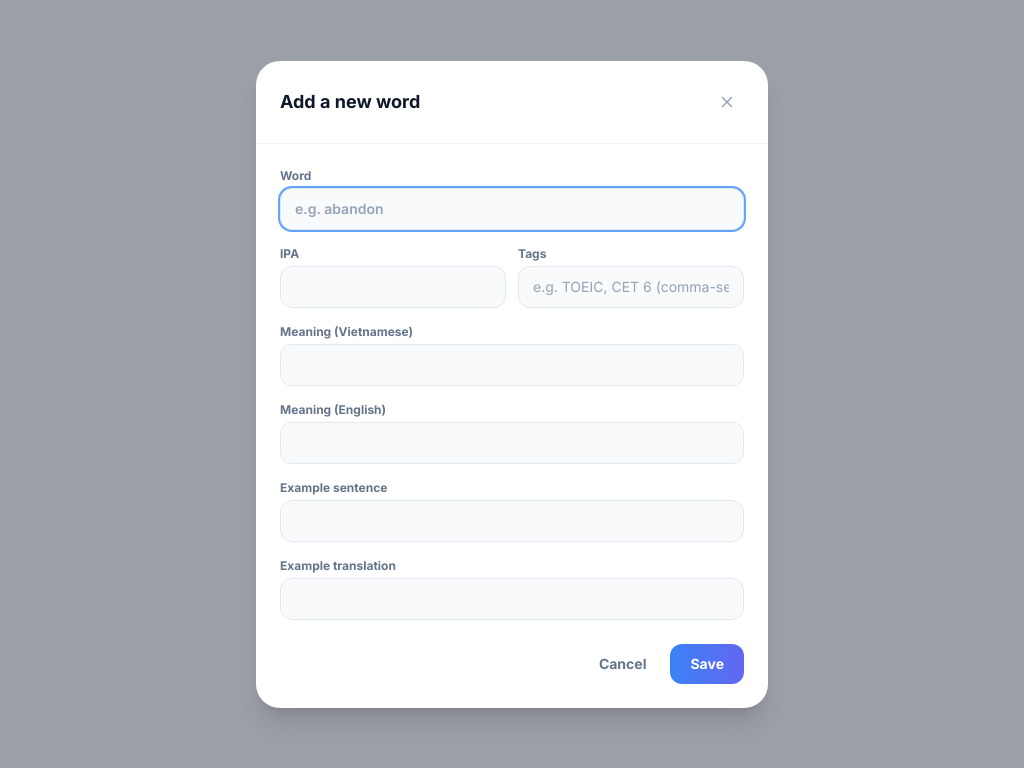
it: AddPersonalWordModal — add mode › a VOCAB_WORD_LIMIT_REACHED 403 shows an upgrade nudge instead of a generic failure
The image size is (1024, 768).
Type "newword" into the field with placeholder "e.g. abandon".
click(512, 208); type("newword")  # box [280,188,744,230]
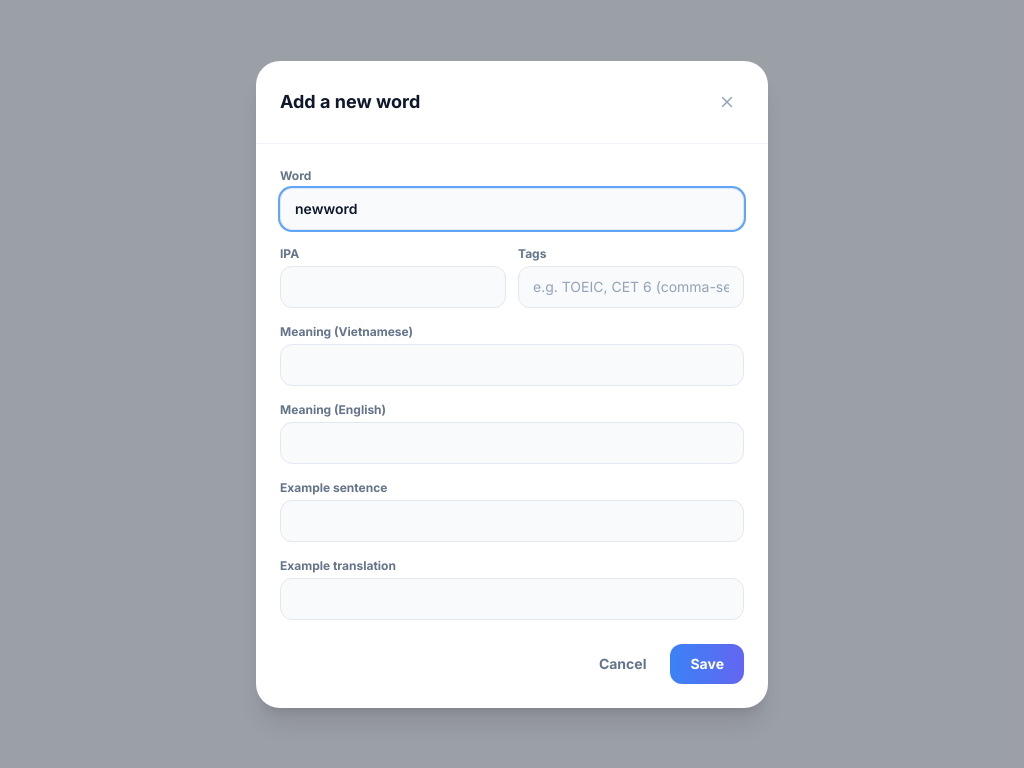
Type "nghĩa" into the field labelled "Meaning (Vietnamese)".
click(512, 364); type("nghĩa")  # box [280,344,744,386]
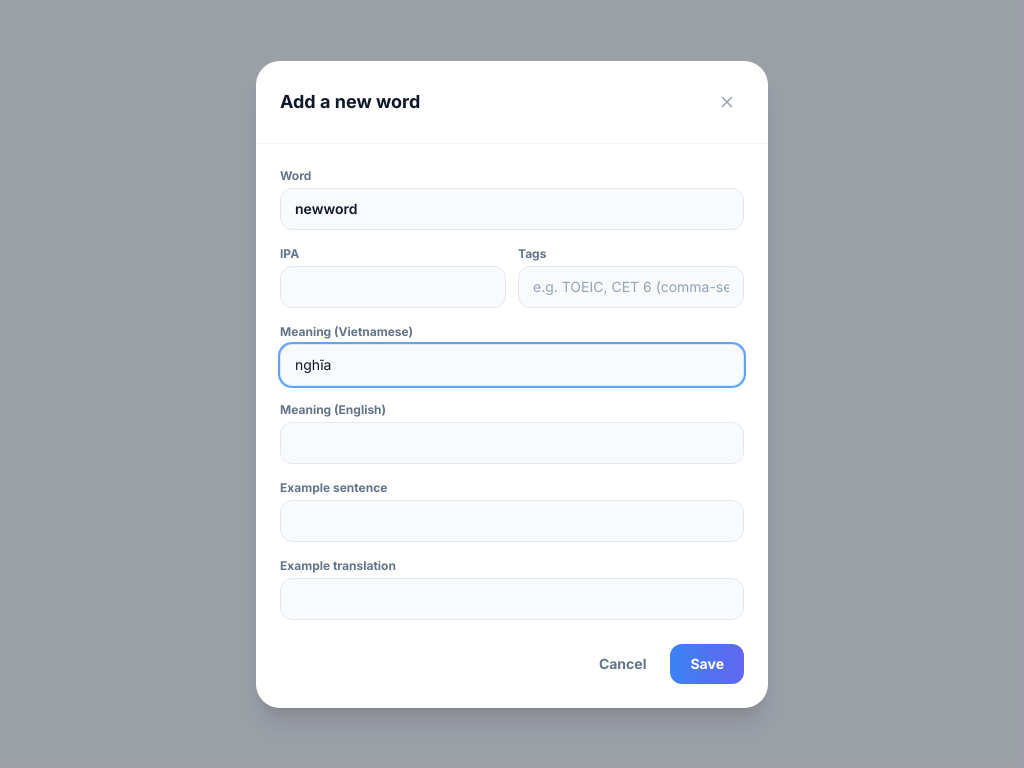
Click the button "Save".
click(707, 664)  # box [670,644,744,684]
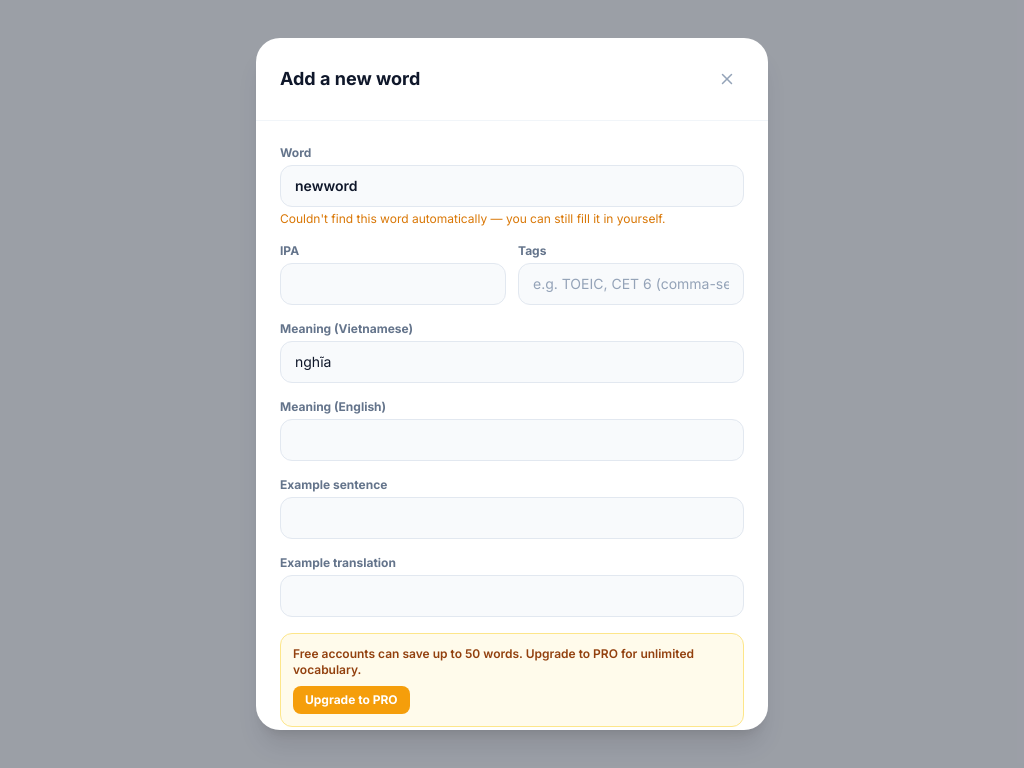
Check: the text "Free accounts can save up to 50 words" is shown, box [293,646,694,677]
Check: the button "Upgrade to PRO" is shown, box [293,686,410,714]
